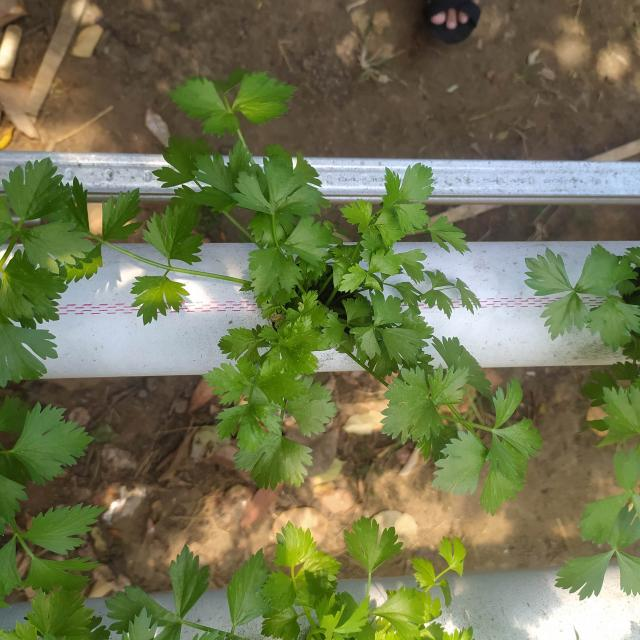Wet Waste: (134, 178, 501, 474)
